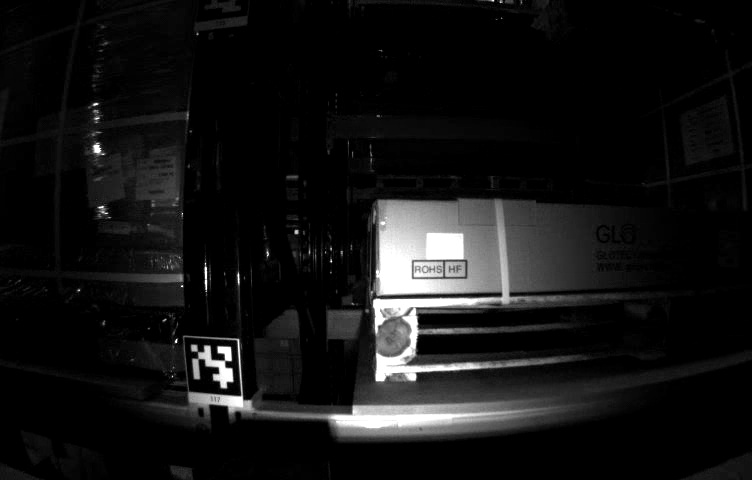True Barcode: (133, 157, 178, 201)
